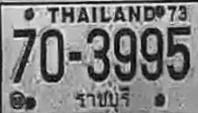0: (40, 28, 64, 82)
3: (86, 27, 109, 81)
5: (166, 26, 190, 80)
7: (11, 28, 36, 83)
9: (140, 27, 163, 80), (114, 27, 136, 80)
RBR: (72, 85, 130, 112)
